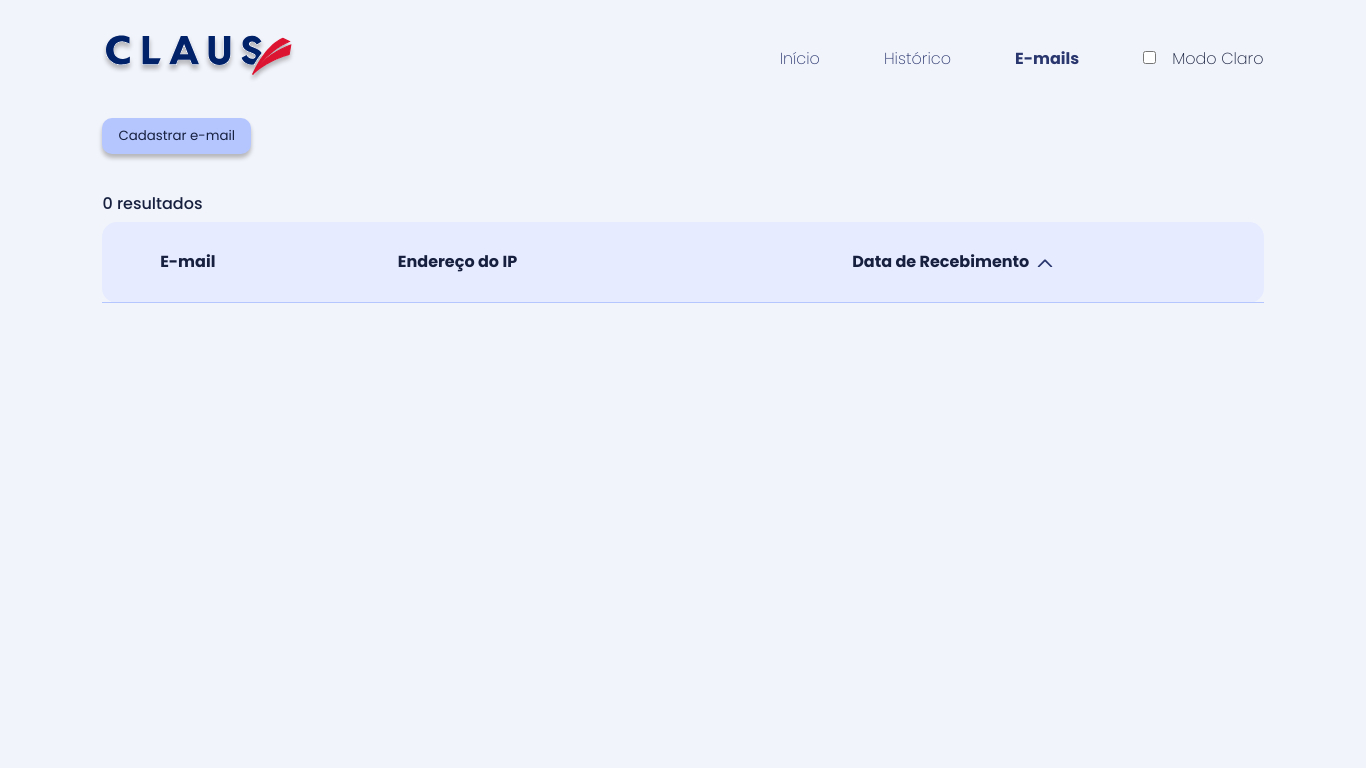
Test: Teste de Integração da Tela de E-mails › Deve abrir e fechar o modal de cadastro de e-mail
// Clicar no botão de "Cadastrar e-mail"
Click the button "Cadastrar e-mail" at (178, 136), box [103,118,252,154]
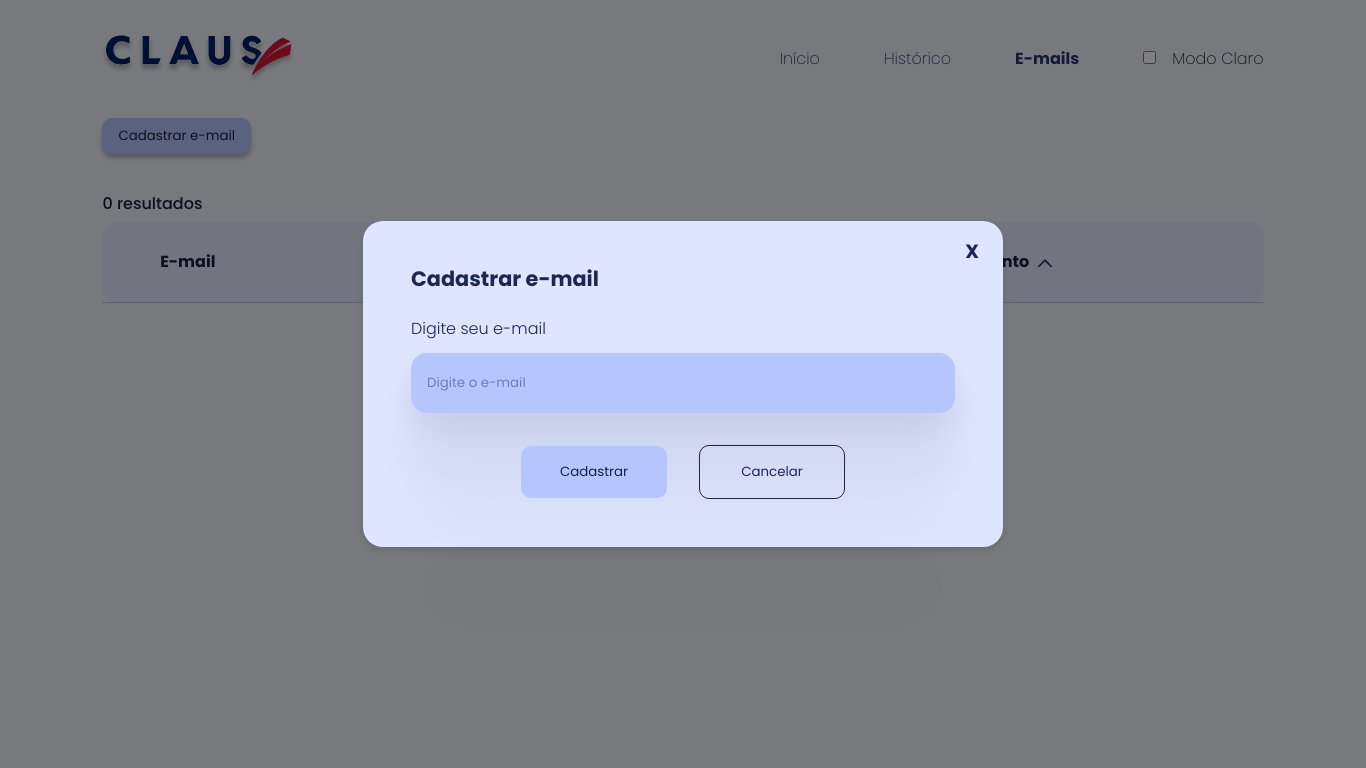
Now the element with id "modal" is shown
// Fechar o modal
Click the button with id "buttonClose" at (972, 252), box [965,237,979,266]
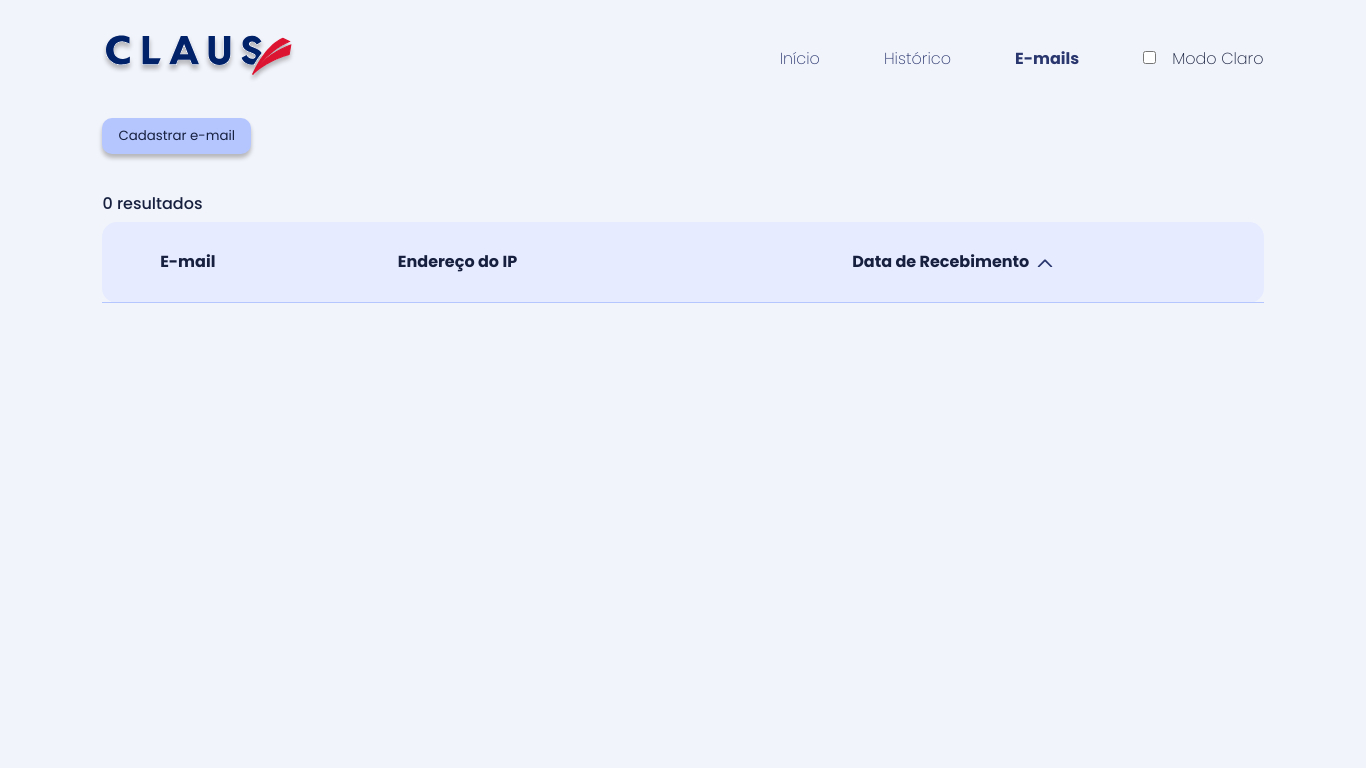
Now the element with id "modal" is gone
